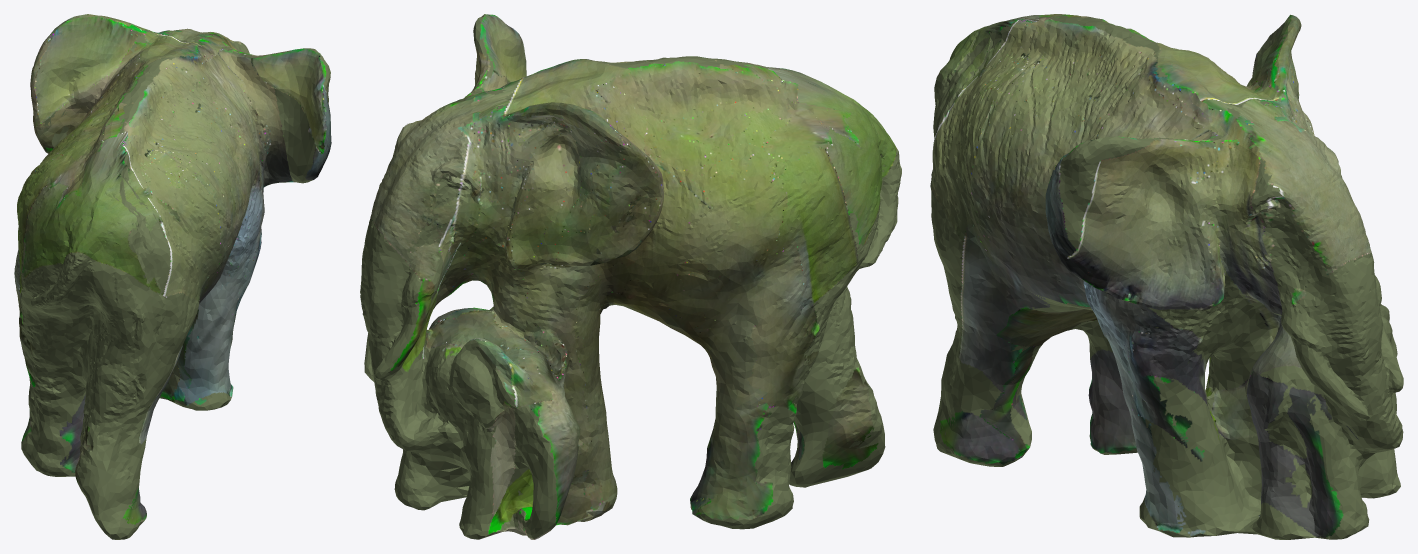
The model's file is textured_TEXTure.glb.
3 renders of one model, left to right at view 1: azimuth 30°, elevation 25°; view 2: azimuth 150°, elevation 25°; view 3: azimuth 270°, elevation 25°, orthographic. The views are drawn at different scales.
Parts seen in each view (by area): view 1: Node; view 2: Node; view 3: Node.
Part boxes in pixels (left/top/right/bottom): Node: left=14, top=14, right=331, bottom=539; Node: left=360, top=14, right=901, bottom=539; Node: left=930, top=14, right=1403, bottom=539.
Size of the model in its own units: 1.67 by 2 by 1.74.
Materials: 1 (1 with a texture image).
